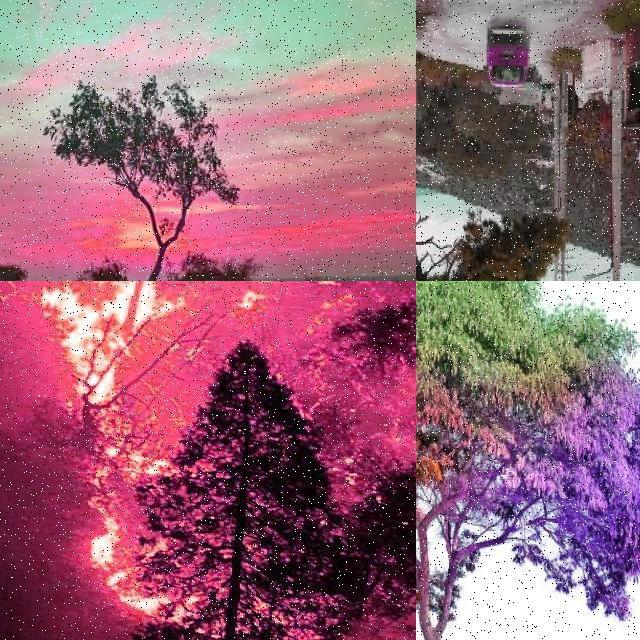tree: (416, 280, 640, 640), (138, 348, 338, 636), (416, 3, 558, 280), (46, 75, 236, 282), (318, 458, 416, 630), (340, 292, 416, 384), (72, 252, 128, 280)
